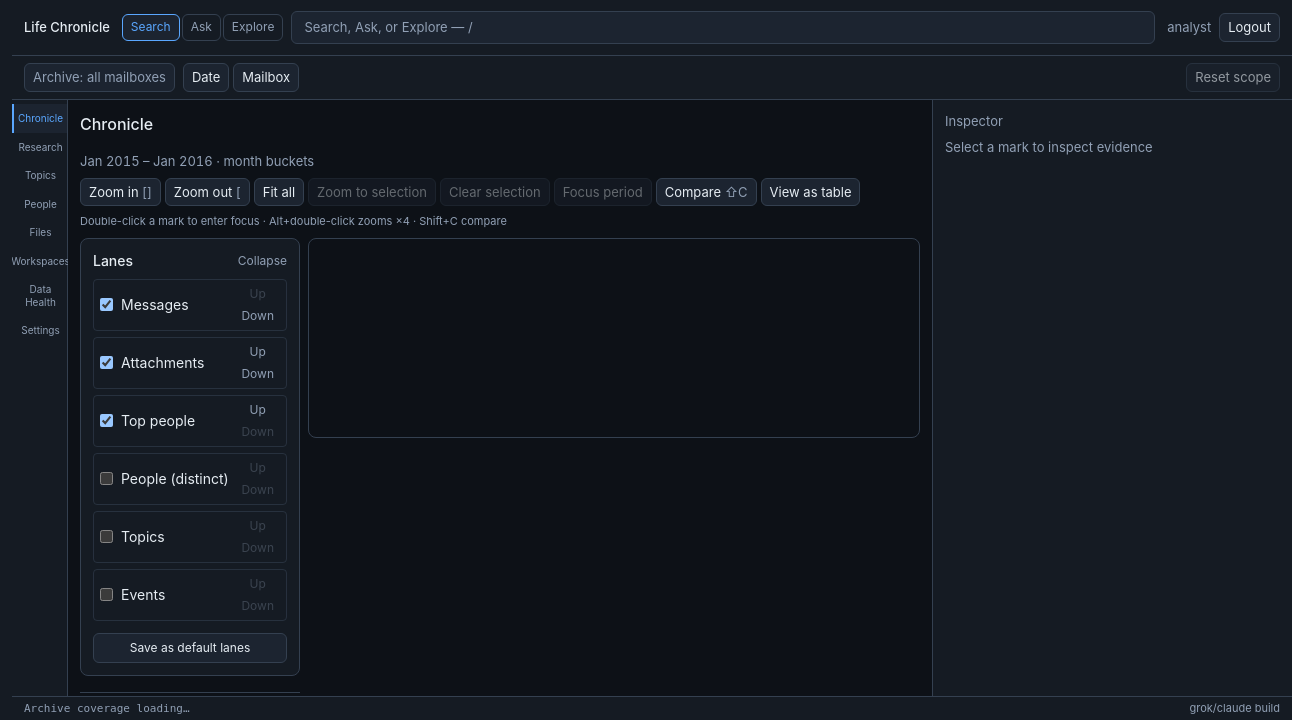
Test: ChroniclePage working-set wiring › Compare button enters compare with previous-period default
The image size is (1292, 720).
Click the button with test id "compare-btn" at coordinates (706, 192), box [656,178,757,206]
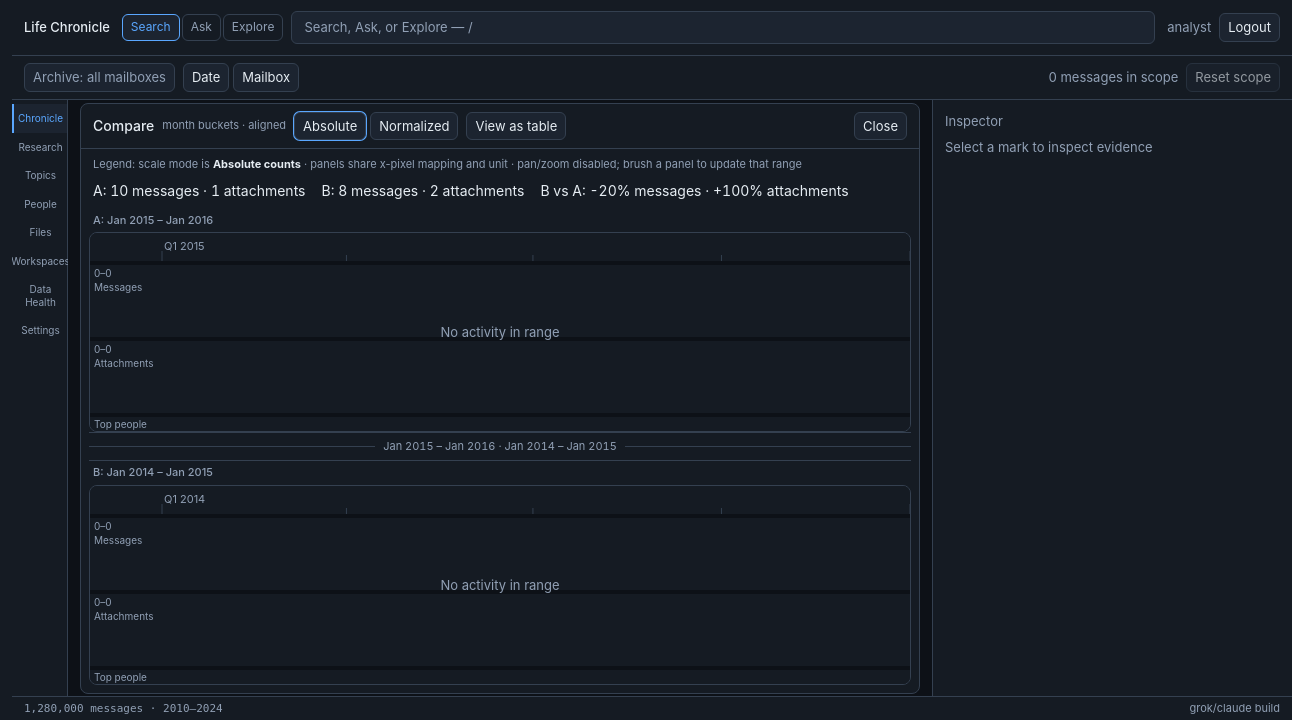
Expected: the element with test id "compare-view" is shown, [80,103,920,694]
